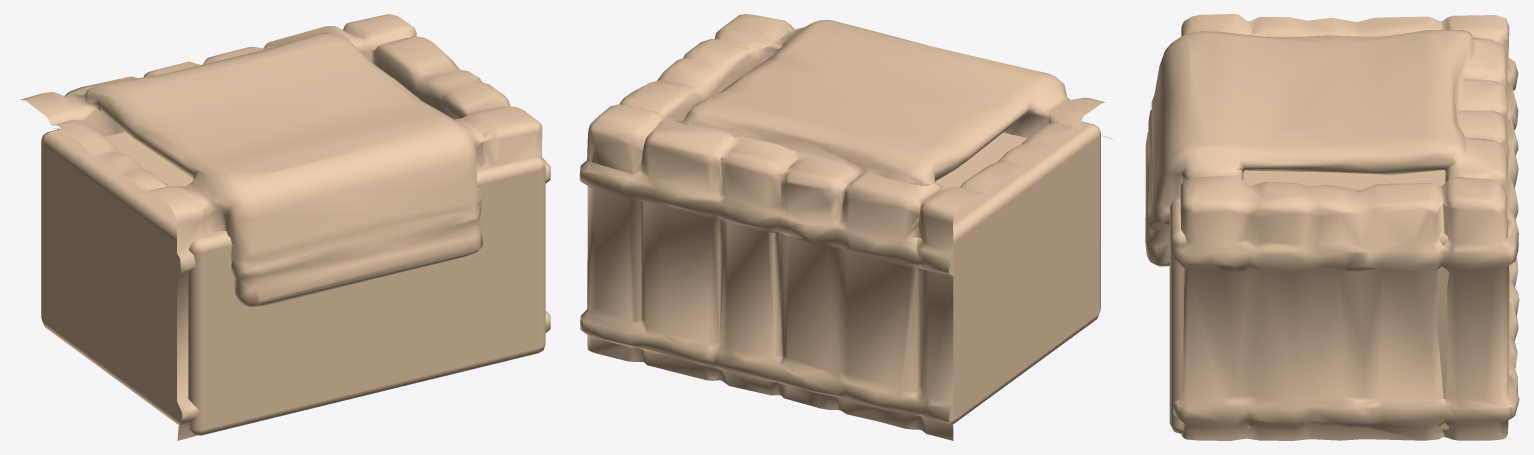
Rendered from show_spa_chest.glb.
3 views of the same model, side by side, from view 1: azimuth 30°, elevation 25°; view 2: azimuth 150°, elevation 25°; view 3: azimuth 270°, elevation 25° (orthographic). The views are drawn at different scales.
Size of the model in its own units: 1 by 0.62 by 0.8252.
